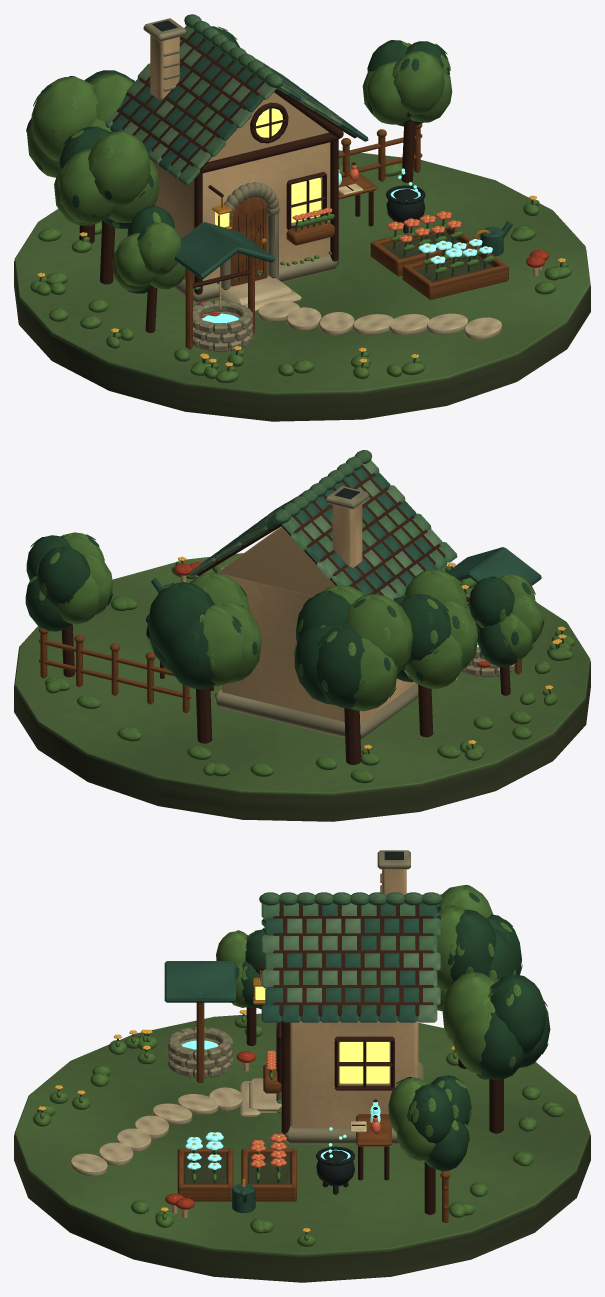
Rendered from garden.glb.
3 renders of one model, top to bottom at view 1: azimuth 30°, elevation 25°; view 2: azimuth 150°, elevation 25°; view 3: azimuth 270°, elevation 25°, orthographic.
Visible parts, largest first — view 1: Storybook garden; view 2: Storybook garden; view 3: Storybook garden.
Boxes of the visible parts, box(x1,y1,x2,y2) form: Storybook garden: box(14, 14, 590, 421); Storybook garden: box(14, 450, 590, 821); Storybook garden: box(14, 850, 590, 1282).
Size of the model in its own units: 11.3 by 5.66 by 11.3.
21 materials, 21 textured.
